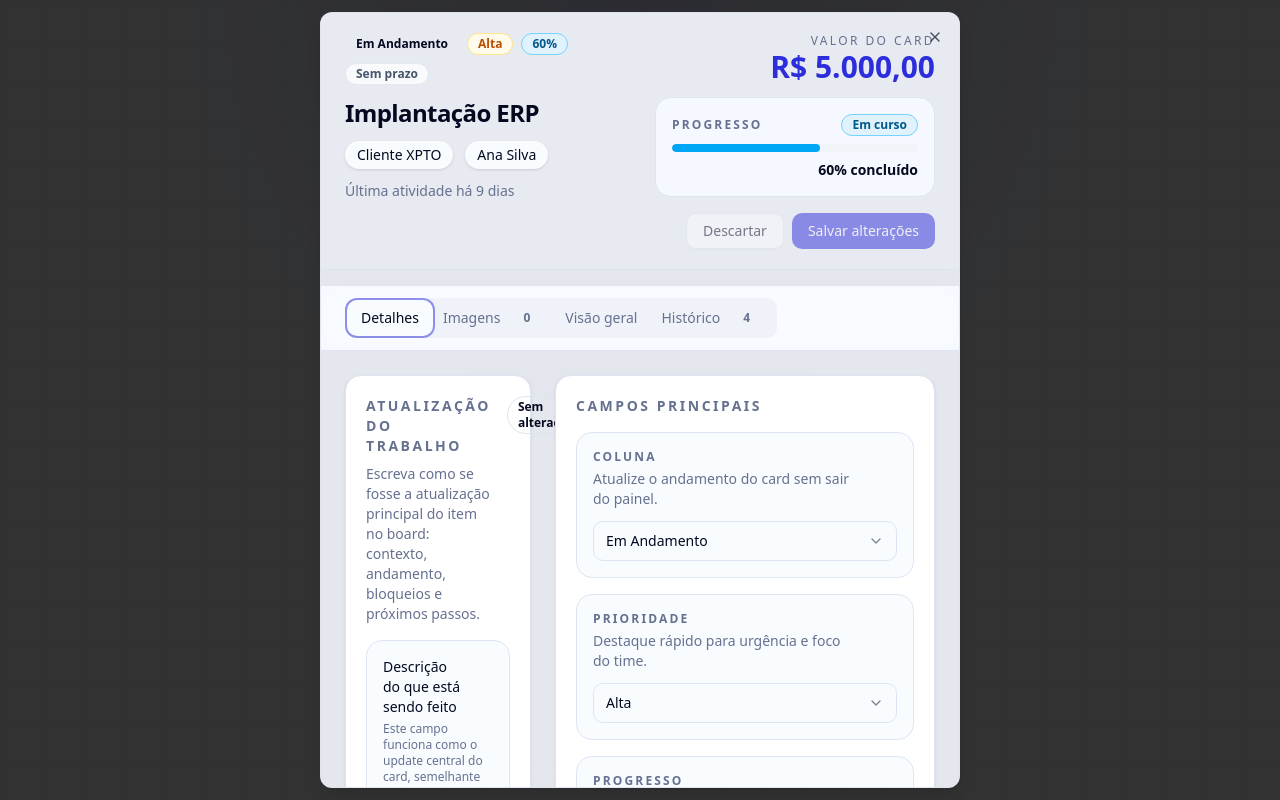
it: DealDetailsModal › filtra o historico por tipo de atividade e mostra estado vazio quando necessario
The image size is (1280, 800).
Click the tab "Histórico 4" at [711, 318], box x1=650 y1=301 x2=773 y2=335
(page scrolled)
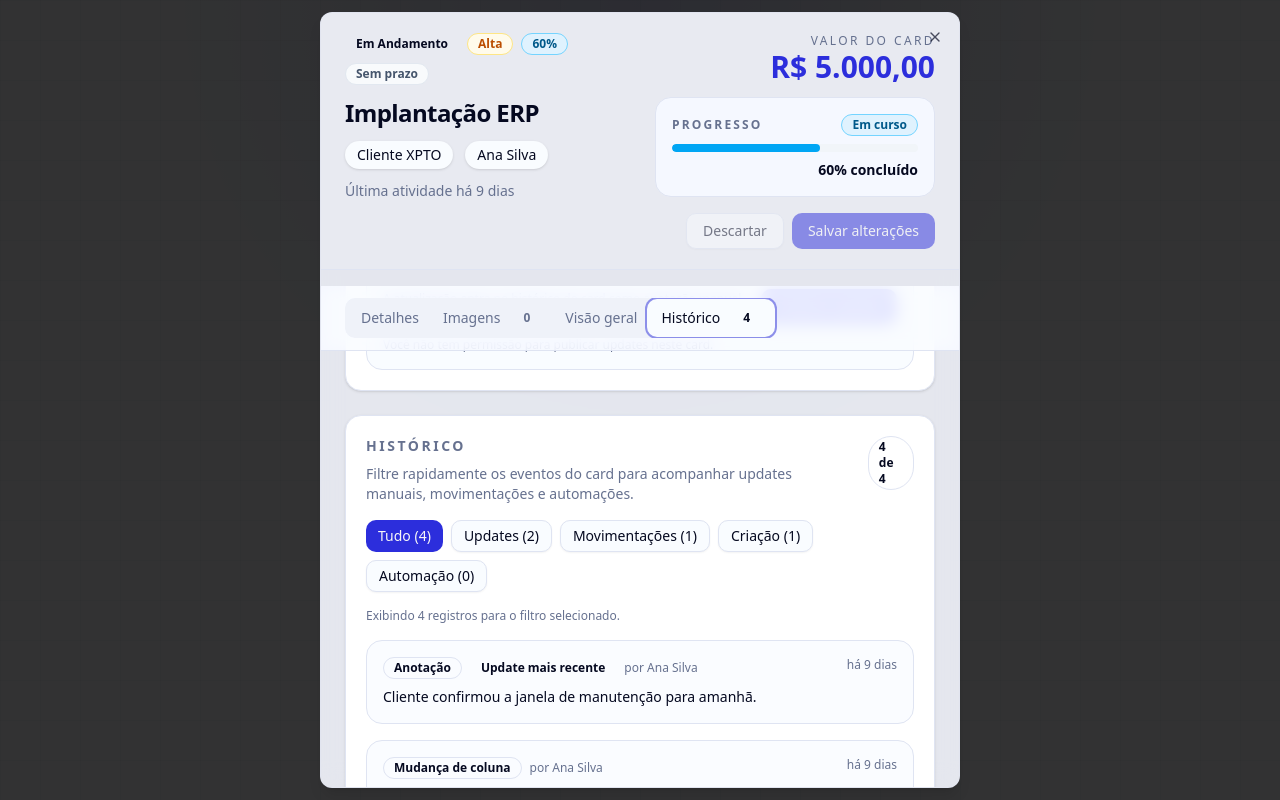
Click the button "Movimentações (1)" at [635, 536], box x1=560 y1=520 x2=710 y2=552
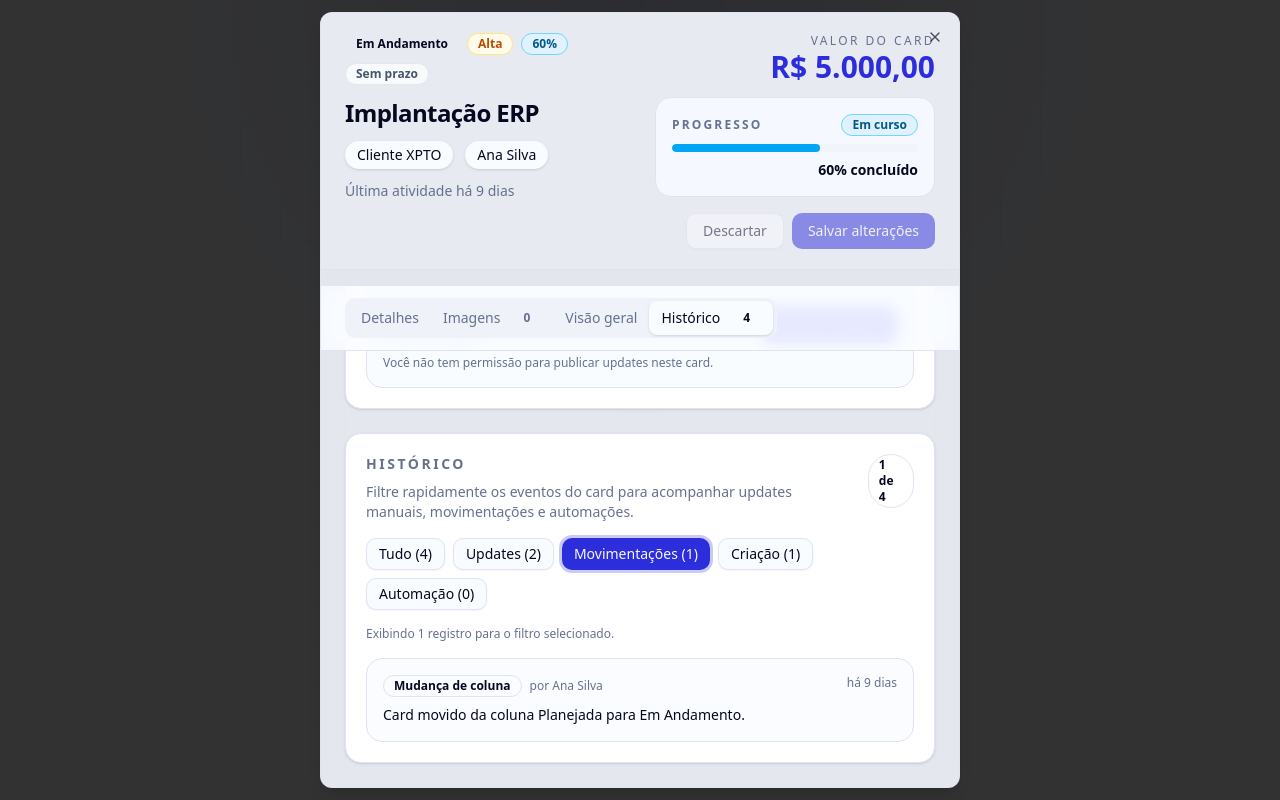
expect the text "Exibindo 1 registro para o filtro selecionado." is shown: met, box x1=366 y1=625 x2=614 y2=642
expect the text "Card movido da coluna Planejada para Em Andamento." is shown: met, box x1=383 y1=705 x2=745 y2=725
Click the button "Automação (0)" at [427, 594], box x1=366 y1=578 x2=487 y2=610
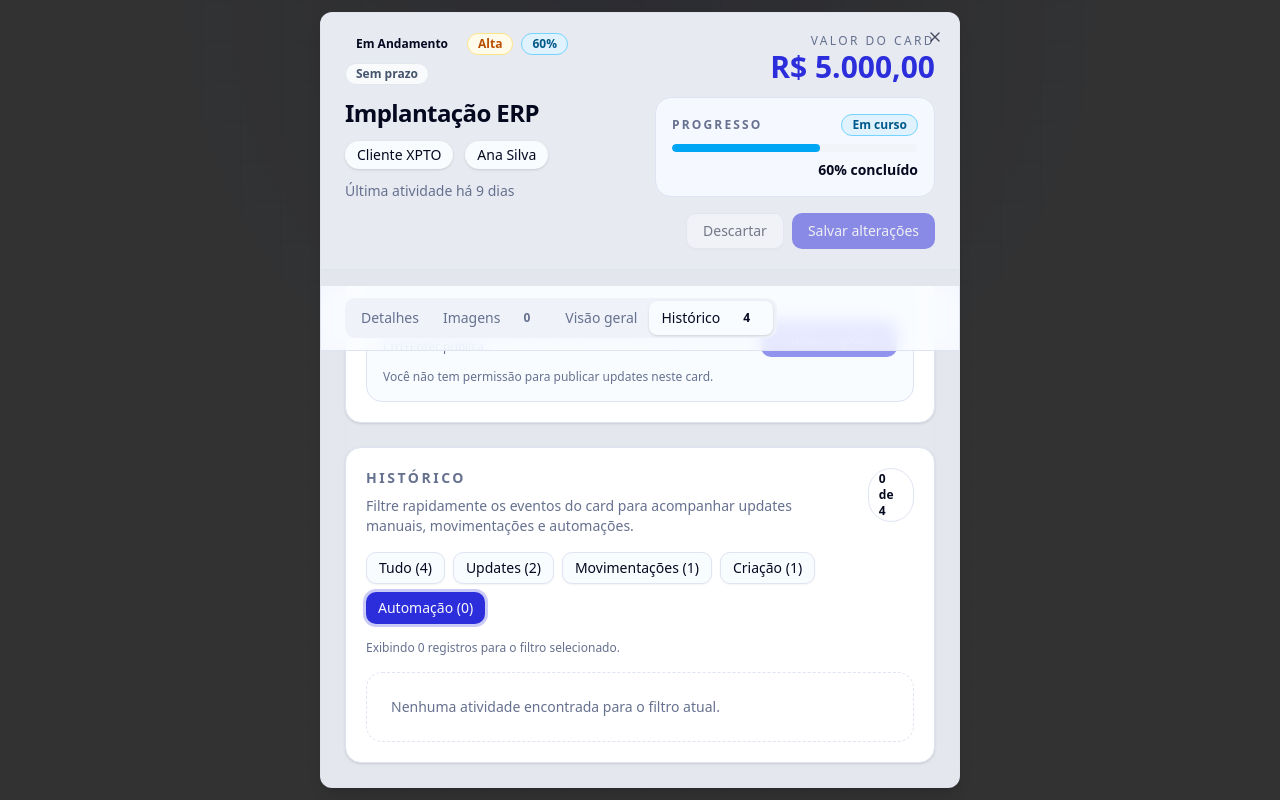
expect the text "Exibindo 0 registros para o filtro selecionado." is shown: met, box x1=366 y1=639 x2=620 y2=656
expect the text "Nenhuma atividade encontrada para o filtro atual." is shown: met, box x1=366 y1=672 x2=914 y2=742
